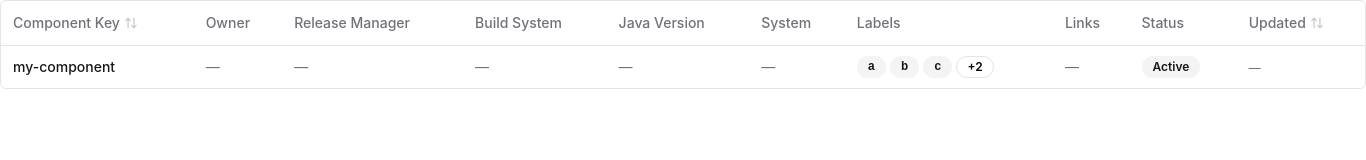
Test: ComponentTable › Wave 2 — Labels column › clicking +N expands the cell inline to render every label as a chip
Click the button named "show all 5 labels". click: click(975, 66)
box: [956,56,994,78]
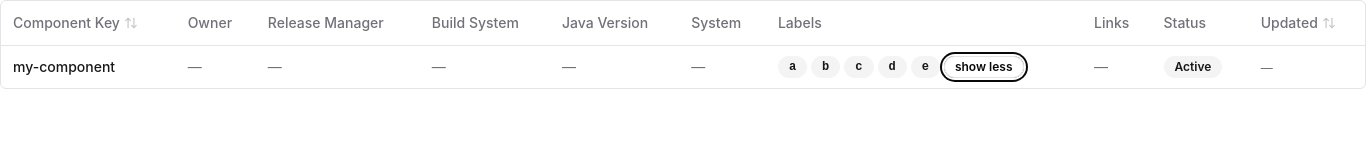
Expected: the text "a" is shown, [778,56,807,78]
Expected: the text "d" is shown, [878,56,907,78]
Expected: the text "e" is shown, [911,56,940,78]
